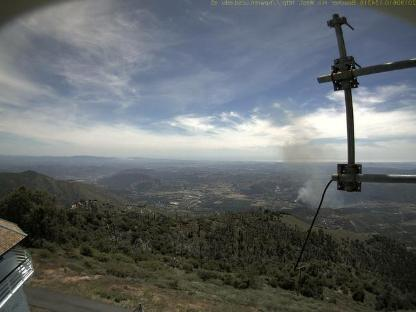smoke: (279, 119, 333, 206)
